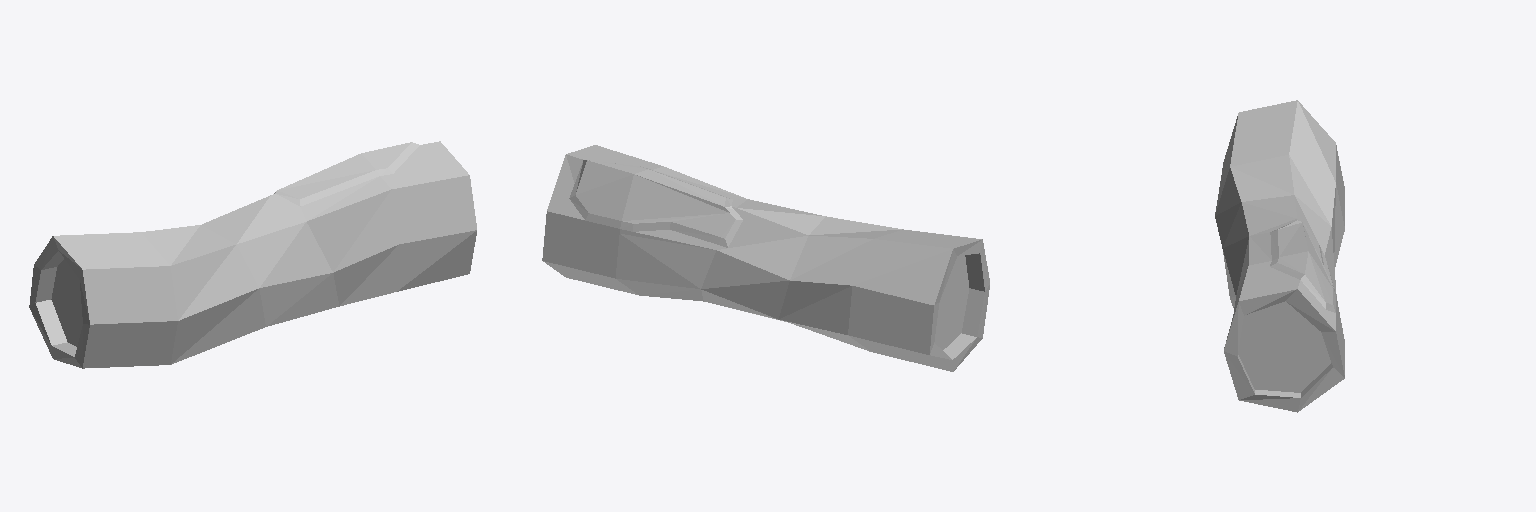
File: Log2Moss.obj
The picture shows the model from 3 angles: view 1: azimuth 30°, elevation 25°; view 2: azimuth 150°, elevation 25°; view 3: azimuth 270°, elevation 25°; orthographic projection.
Visible parts, largest first — view 1: Log_3_Moss_Cylinder.032; view 2: Log_3_Moss_Cylinder.032; view 3: Log_3_Moss_Cylinder.032.
Boxes of the visible parts, x1,y1,x2,y2 form: Log_3_Moss_Cylinder.032: [29, 141, 476, 368]; Log_3_Moss_Cylinder.032: [542, 145, 989, 371]; Log_3_Moss_Cylinder.032: [1215, 100, 1344, 412].
Bounding box in the file's own units: 6.46 × 2.01 × 1.86.